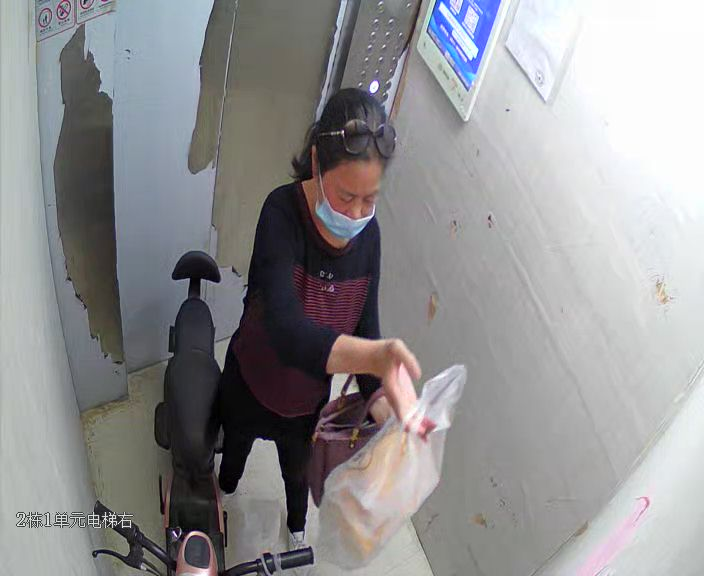Electric-bicycle: (93, 251, 313, 575)
